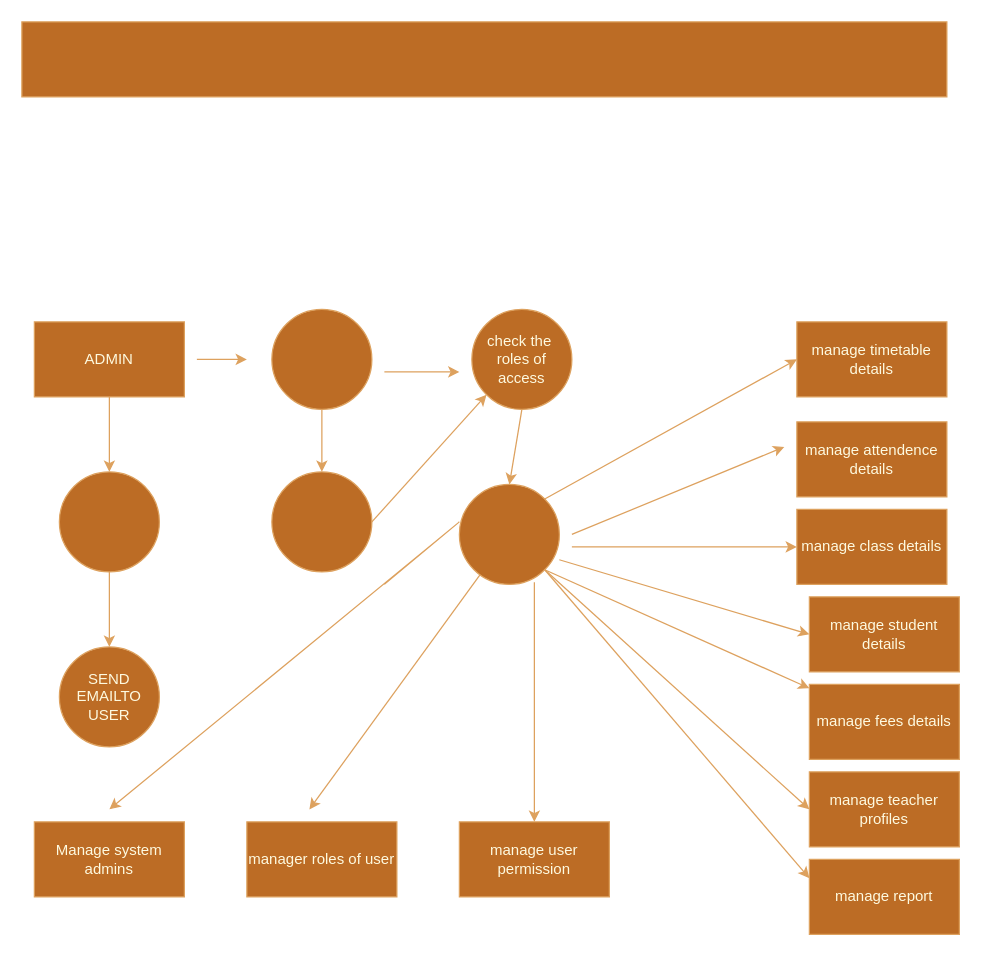
The diagram is 981 pixels wide and 956 high, and some of its shapes have lost their labels. Here are the shapes that lost their labels. From the top down, the centre of each, then its label:
At (484,59): "STUDENT INFORMATION SYSTEM".
At (321,358): "LOGIN TO SYSTEM".
At (108,521): "FORGOT PASSWORD".
At (321,521): "CHECK CREDENTIALS".
At (508,533): "manage modules".
